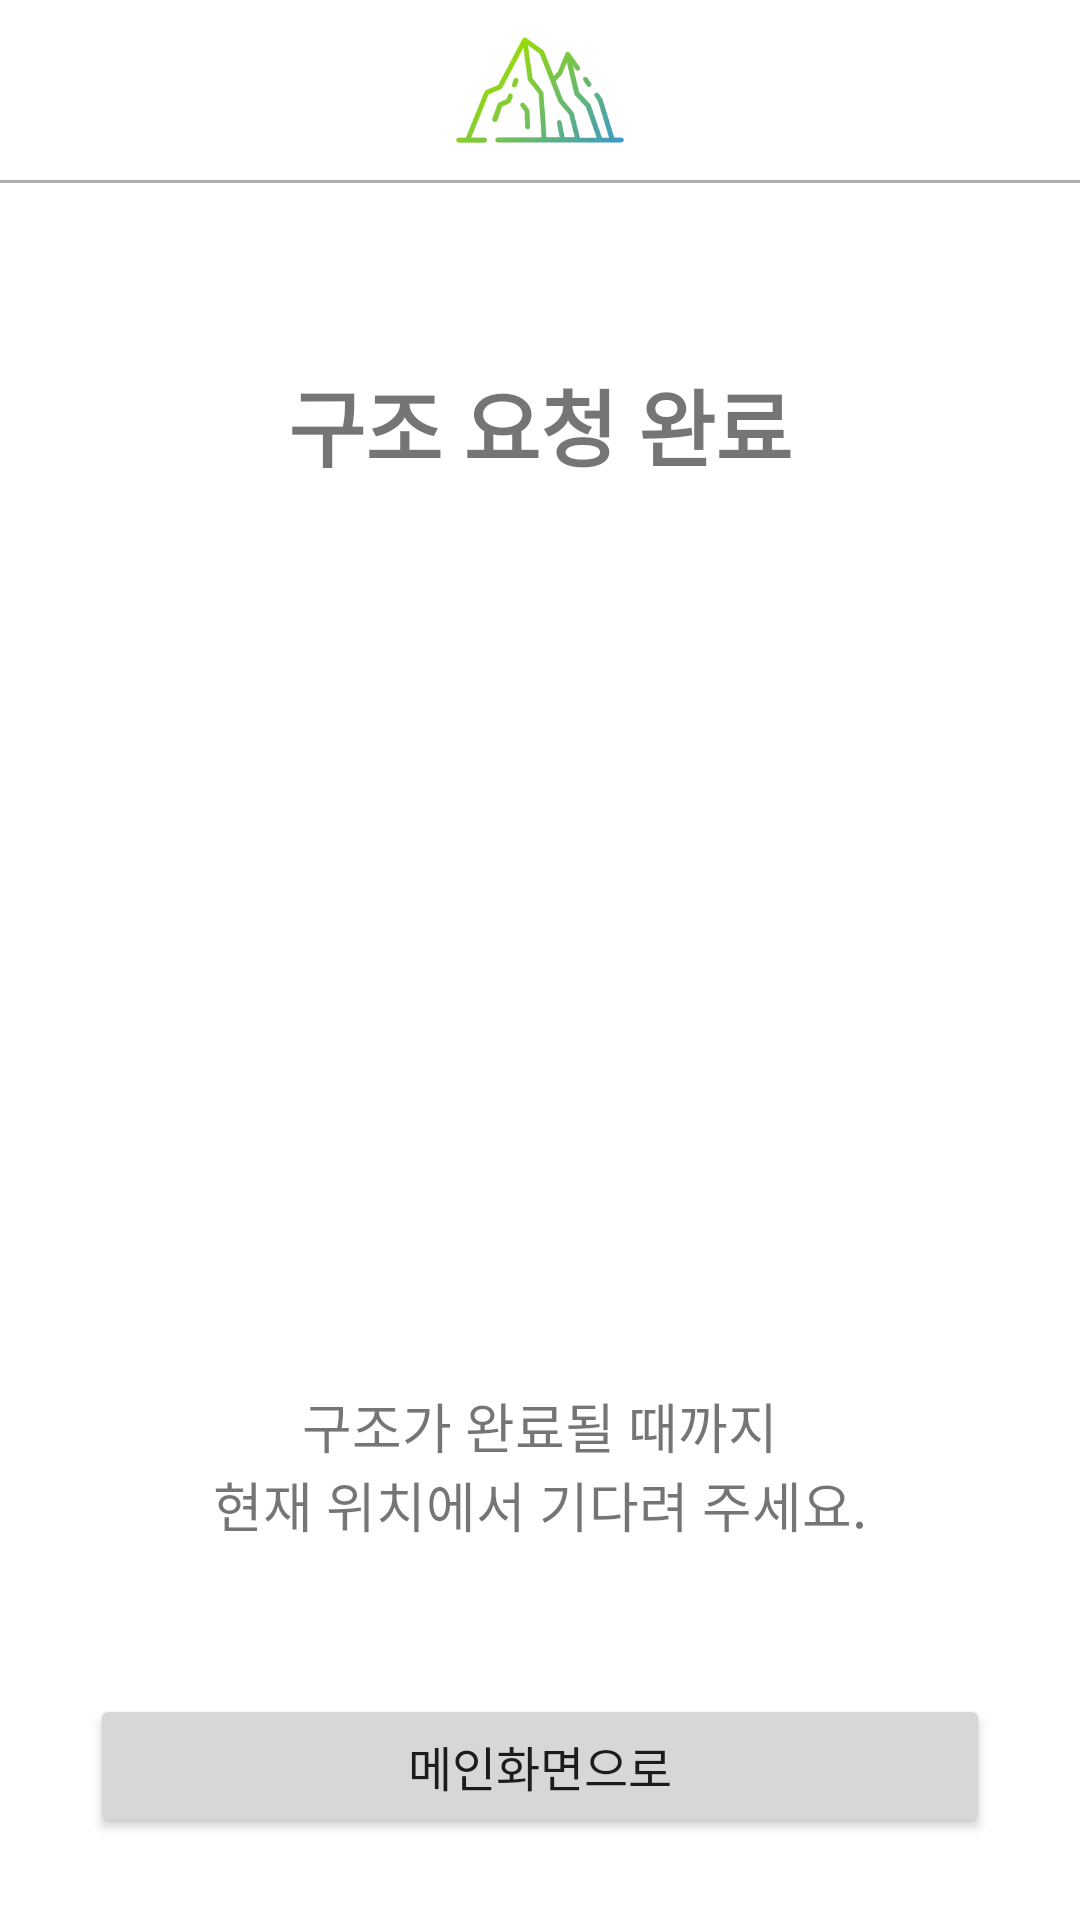

Where icons sit on this 1080x1920 app screen, as (x1, y1, x2, y2):
mountain: (456, 37, 624, 143)
